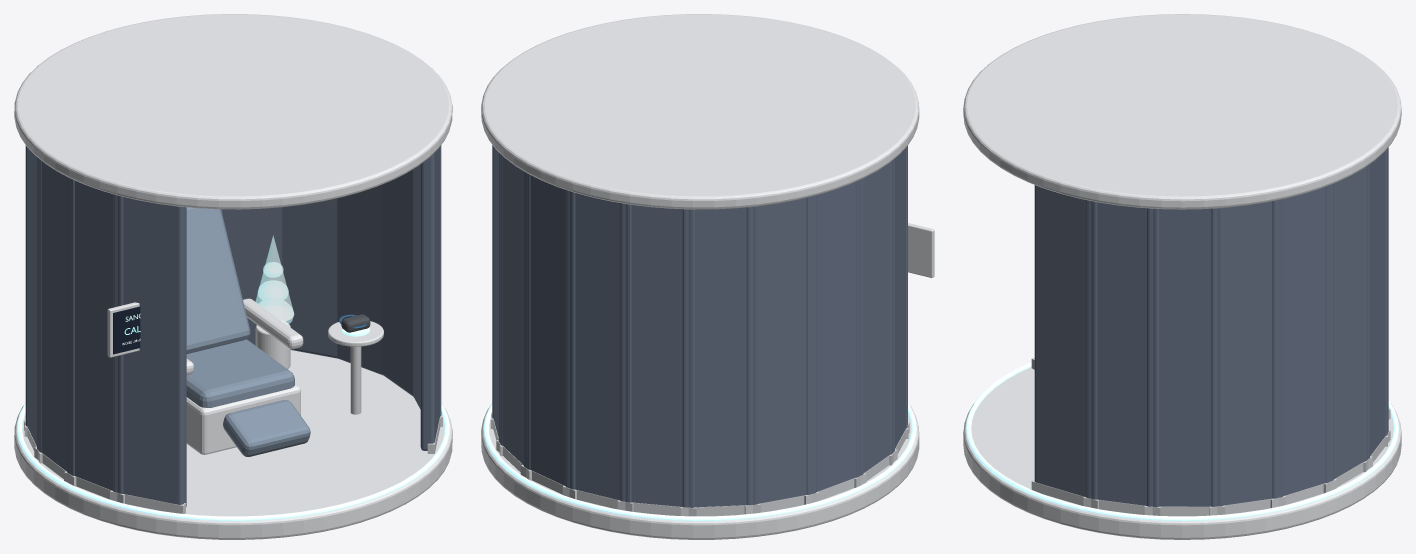
Rendered from sanctuary_pod.glb.
3 renders of one model, left to right at view 1: azimuth 30°, elevation 25°; view 2: azimuth 150°, elevation 25°; view 3: azimuth 270°, elevation 25°, orthographic.
Parts seen in each view (by area): view 1: Acoustic_Panel, Cube.004 (×4), Breathing_Light, HoloPlant_Frond, Cube.001; view 2: Acoustic_Panel, Cube.004 (×4), Breathing_Light, Cube.001 (×4); view 3: Acoustic_Panel, Cube.004 (×3), Breathing_Light, Cube.001 (×5).
Boxes of the visible parts, x1,y1,x2,y2 form: Acoustic_Panel: [14, 14, 452, 539]; Cube.004 (×4): [37, 157, 413, 506]; Breathing_Light: [17, 403, 449, 520]; HoloPlant_Frond: [255, 235, 294, 324]; Cube.001: [110, 490, 185, 513]; Acoustic_Panel: [481, 14, 934, 539]; Cube.004 (×4): [492, 145, 907, 502]; Breathing_Light: [484, 403, 916, 520]; Cube.001 (×4): [562, 485, 819, 516]; Acoustic_Panel: [963, 14, 1401, 539]; Cube.004 (×3): [1147, 148, 1387, 506]; Breathing_Light: [966, 362, 1398, 520]; Cube.001 (×5): [1031, 479, 1336, 516].
Size of the model in its own units: 2.5 by 2.16 by 2.5.
6 materials, 6 textured.
